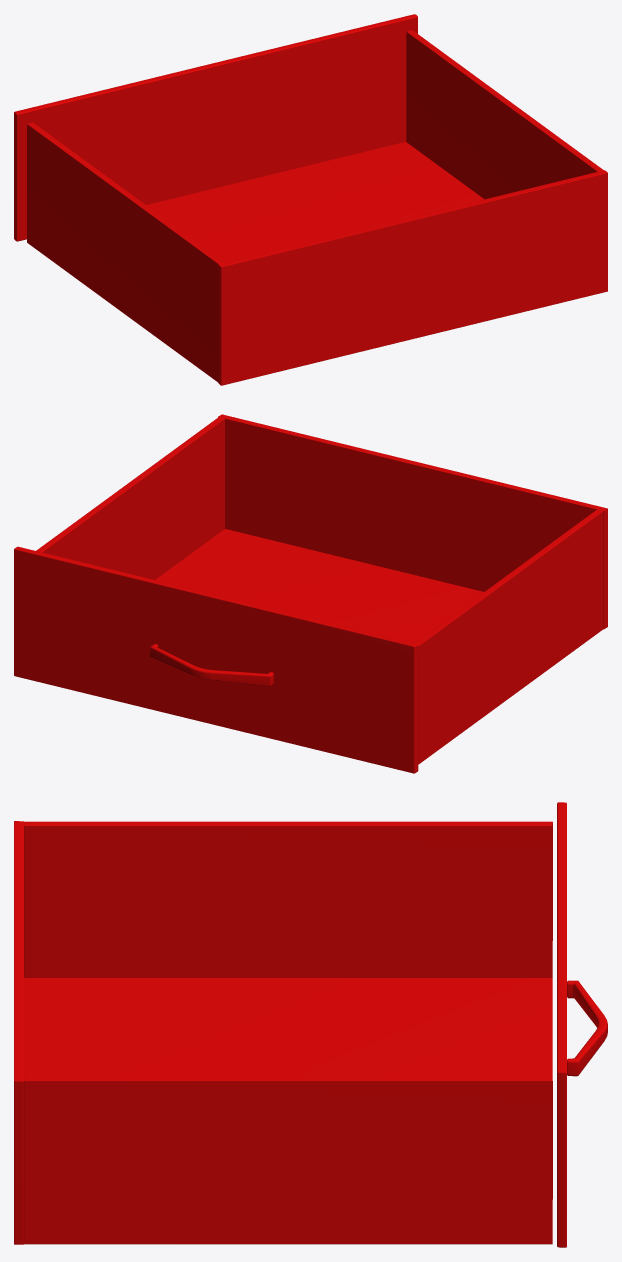
File: Table_4_2.fbx
3 views of the same model, one above another, from view 1: azimuth 30°, elevation 25°; view 2: azimuth 150°, elevation 25°; view 3: azimuth 270°, elevation 25° (orthographic). The views are drawn at different scales.
Visible parts, largest first — view 1: polySurface1558; view 2: polySurface1558; view 3: polySurface1558.
Boxes of the visible parts, <box> form: polySurface1558: <box>14,14,607,385</box>; polySurface1558: <box>14,414,607,773</box>; polySurface1558: <box>14,802,607,1247</box>.
Bounding box in the file's own units: 63.29 × 19.43 × 58.78.
